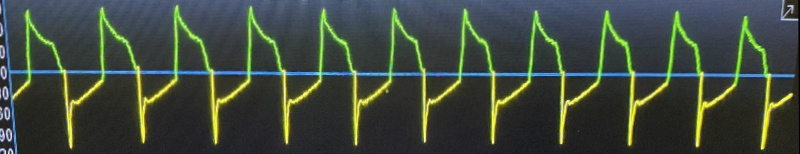peepi: (6, 0, 781, 150)
